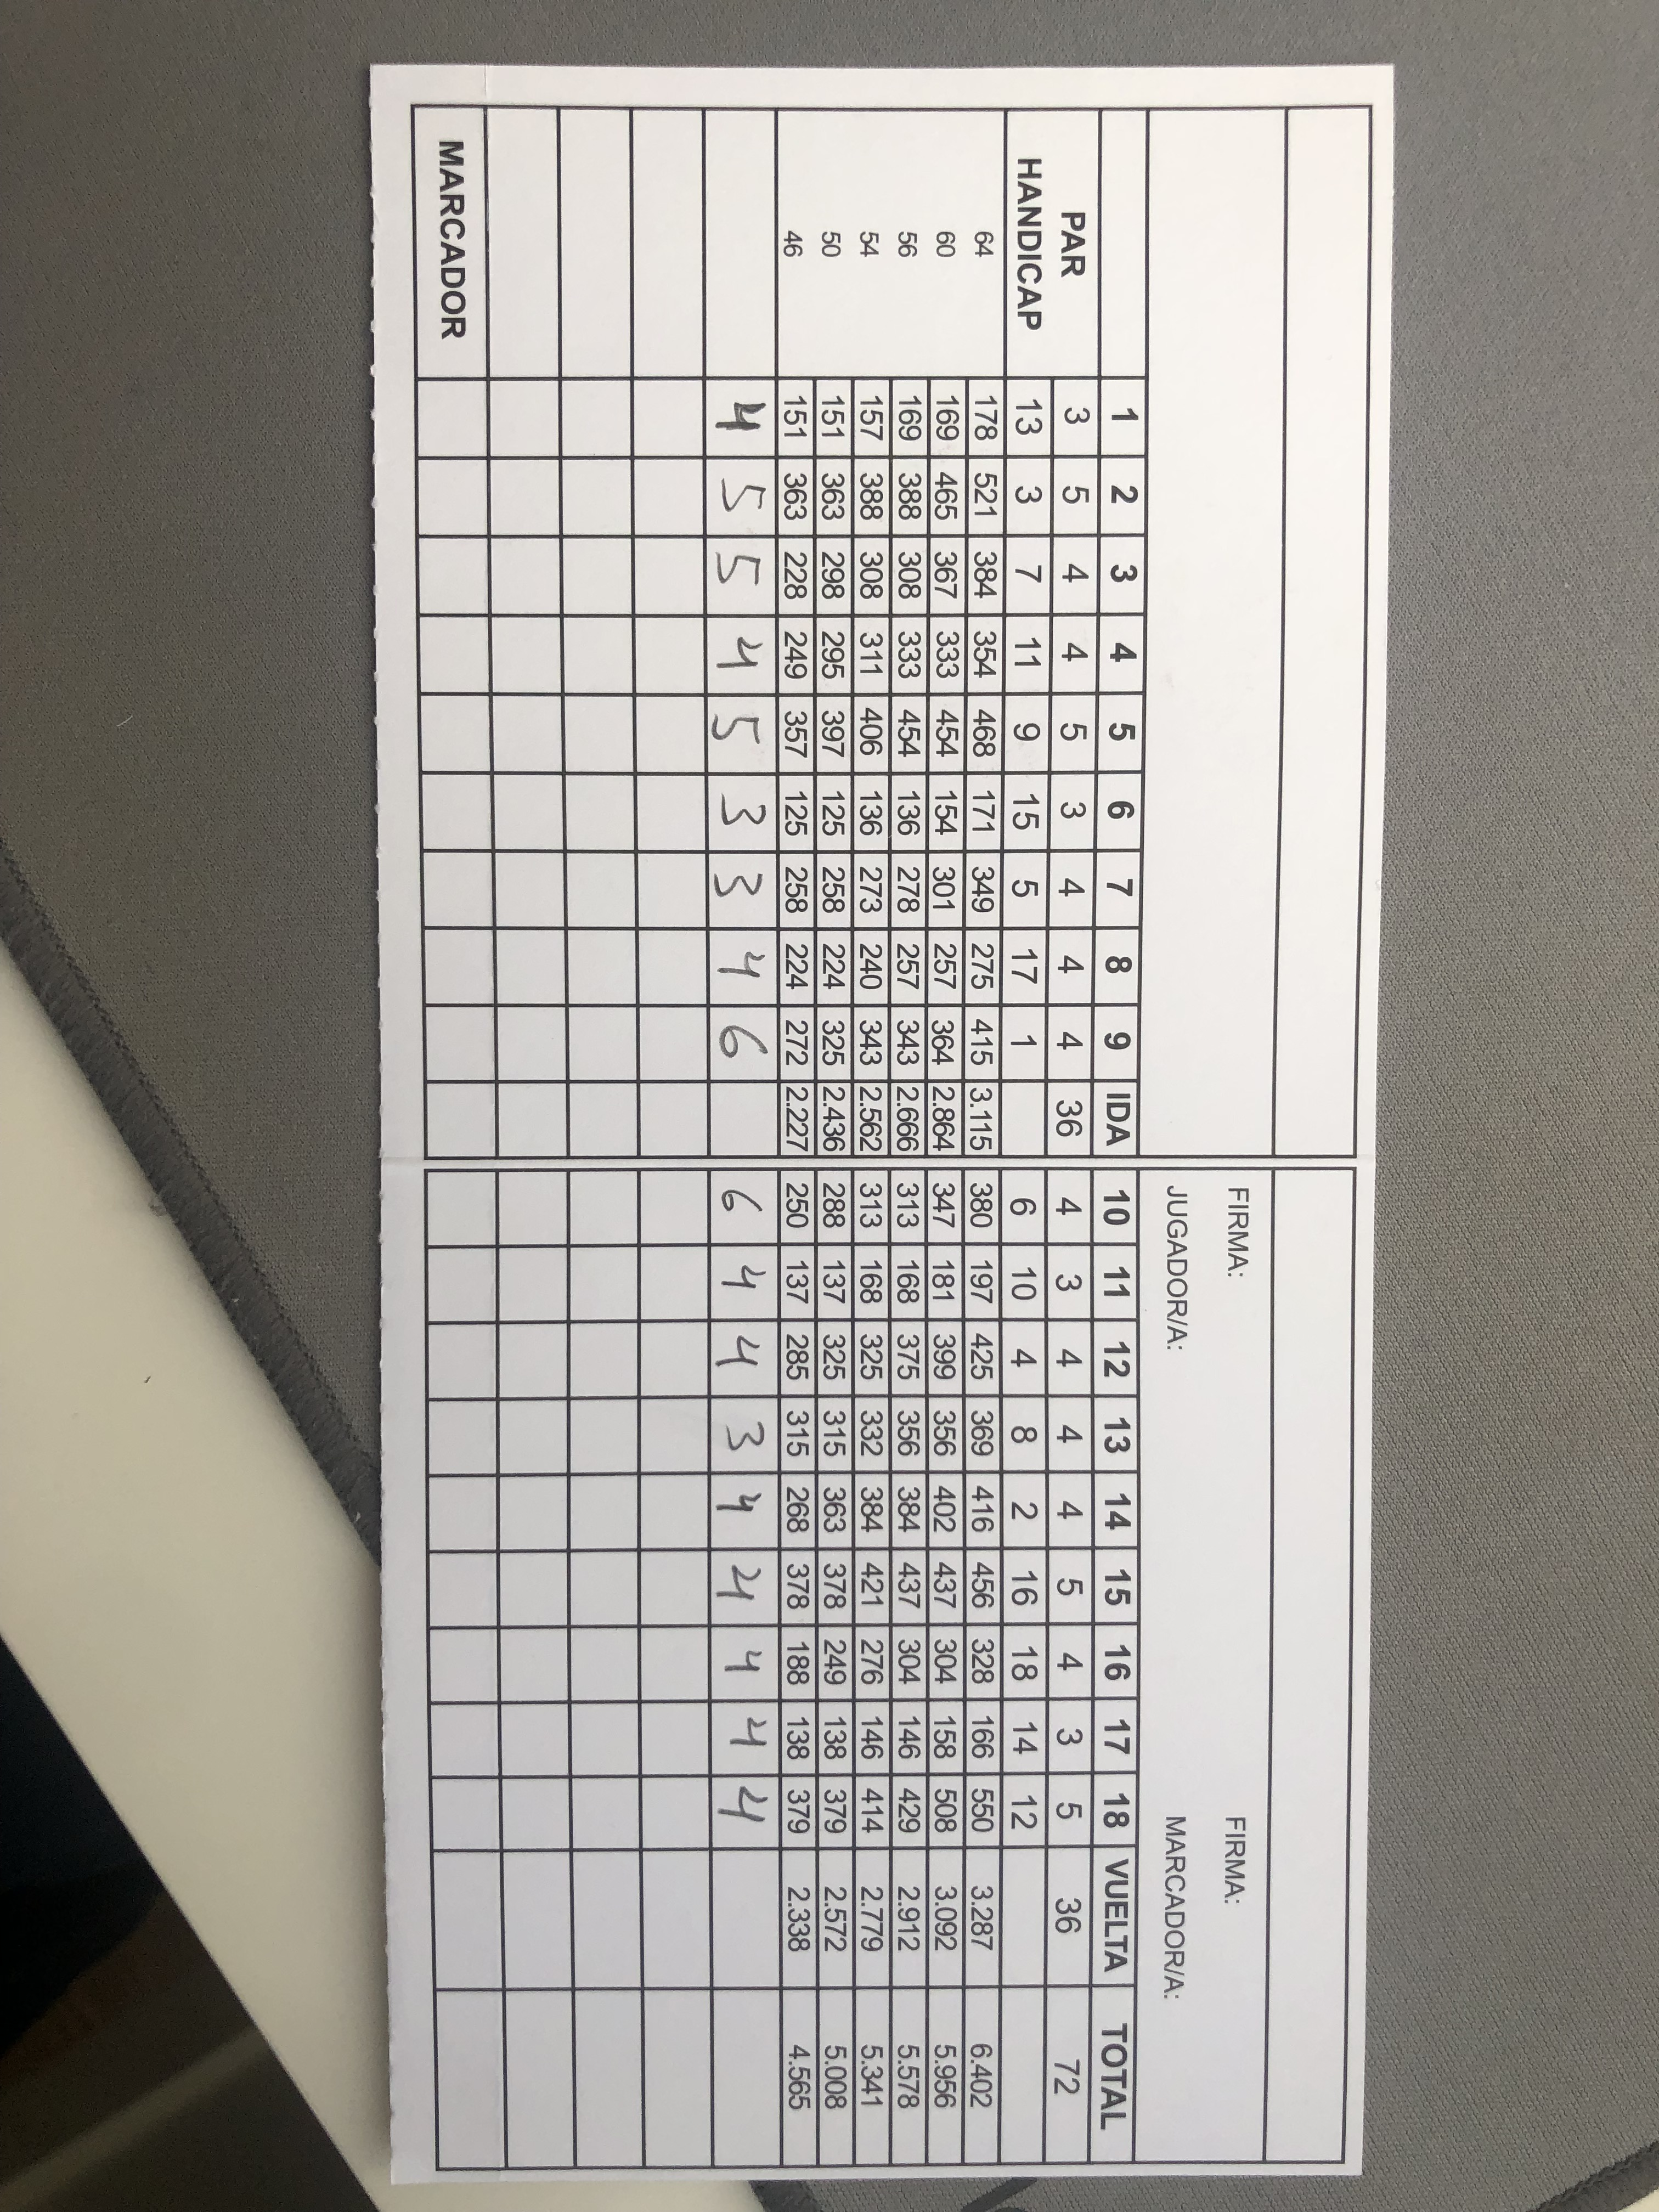par: (1053, 176, 1089, 2107)
score: (706, 376, 779, 1850)
